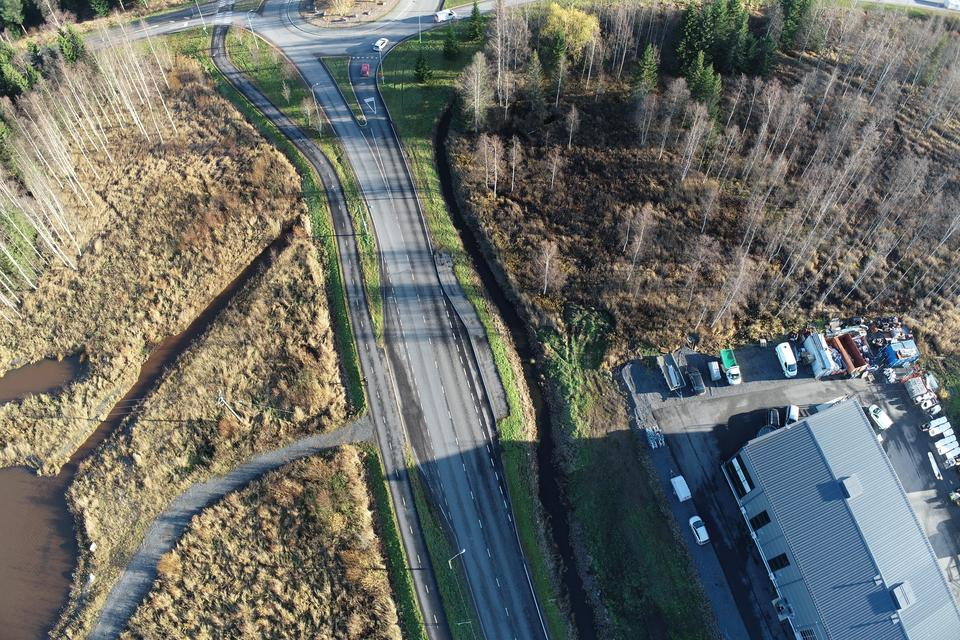intersection: (337, 384, 527, 495), (200, 0, 245, 48)
roundabout: (253, 0, 504, 88)
